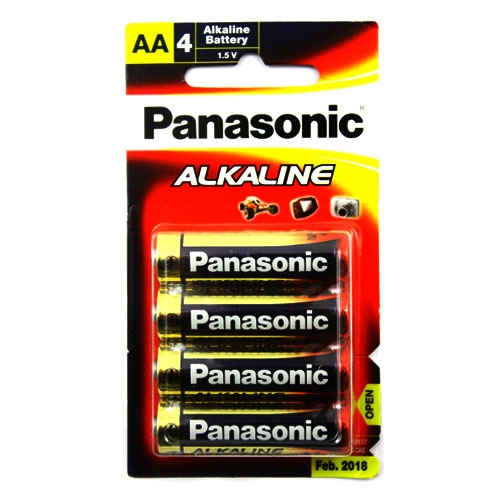Battery: (148, 229, 347, 291), (149, 339, 347, 400), (151, 398, 352, 456), (149, 290, 349, 339)
